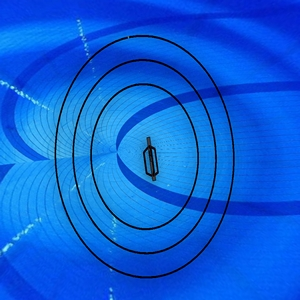circle: (50, 31, 242, 284)
submarine: (137, 130, 165, 189)
